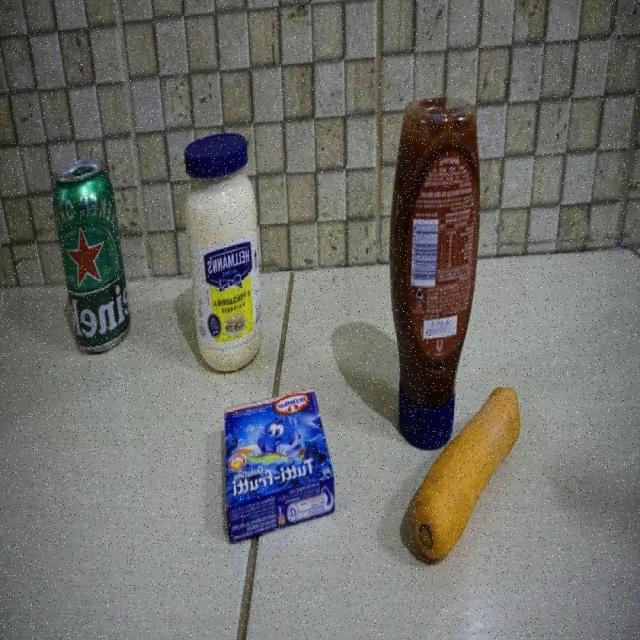BeerCan: (51, 159, 134, 354)
Carrot: (412, 384, 521, 564)
Gelatine: (222, 388, 336, 545)
Ketchup: (389, 96, 481, 452)
Mayonnaise: (183, 132, 262, 374)
